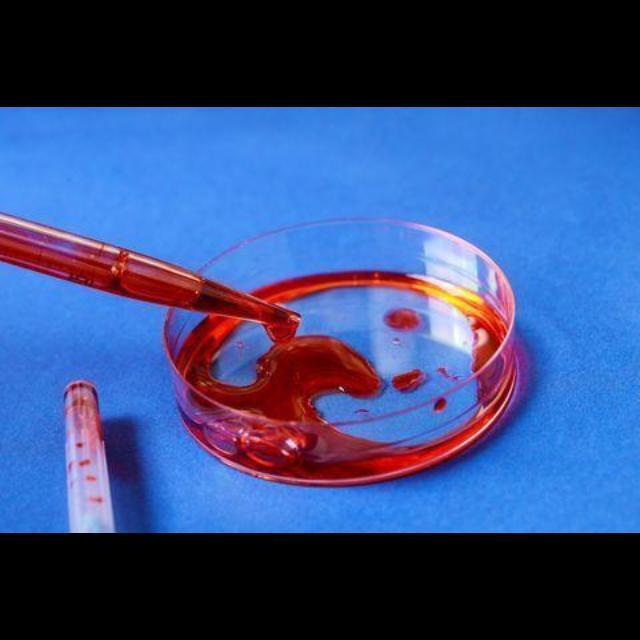blood: (0, 214, 521, 487)
